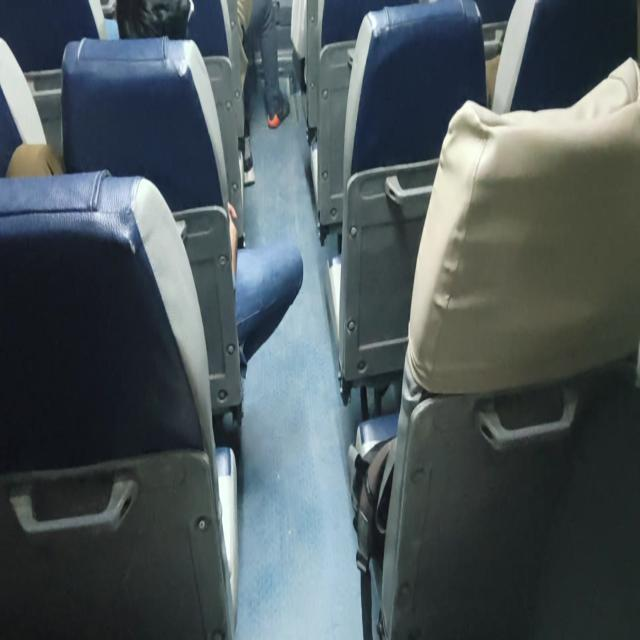person: (370, 54, 639, 636), (5, 141, 304, 373), (236, 0, 290, 129), (115, 0, 194, 40)
